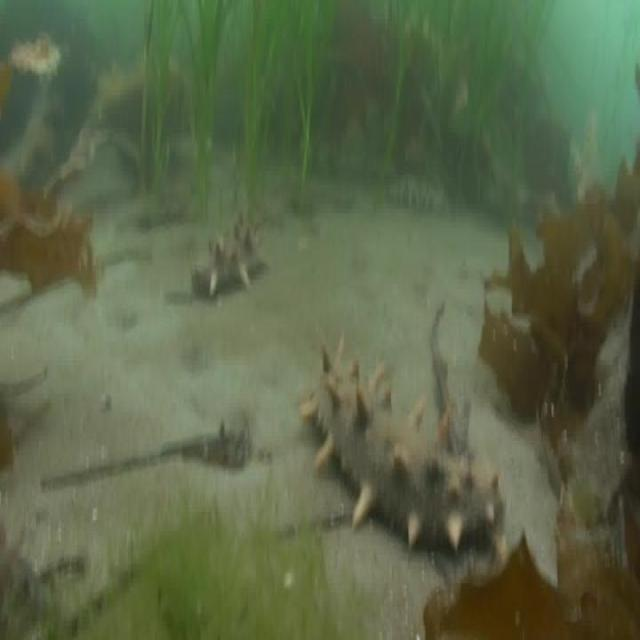holothurian: (303, 332, 507, 558), (193, 213, 269, 302), (393, 176, 448, 210)
